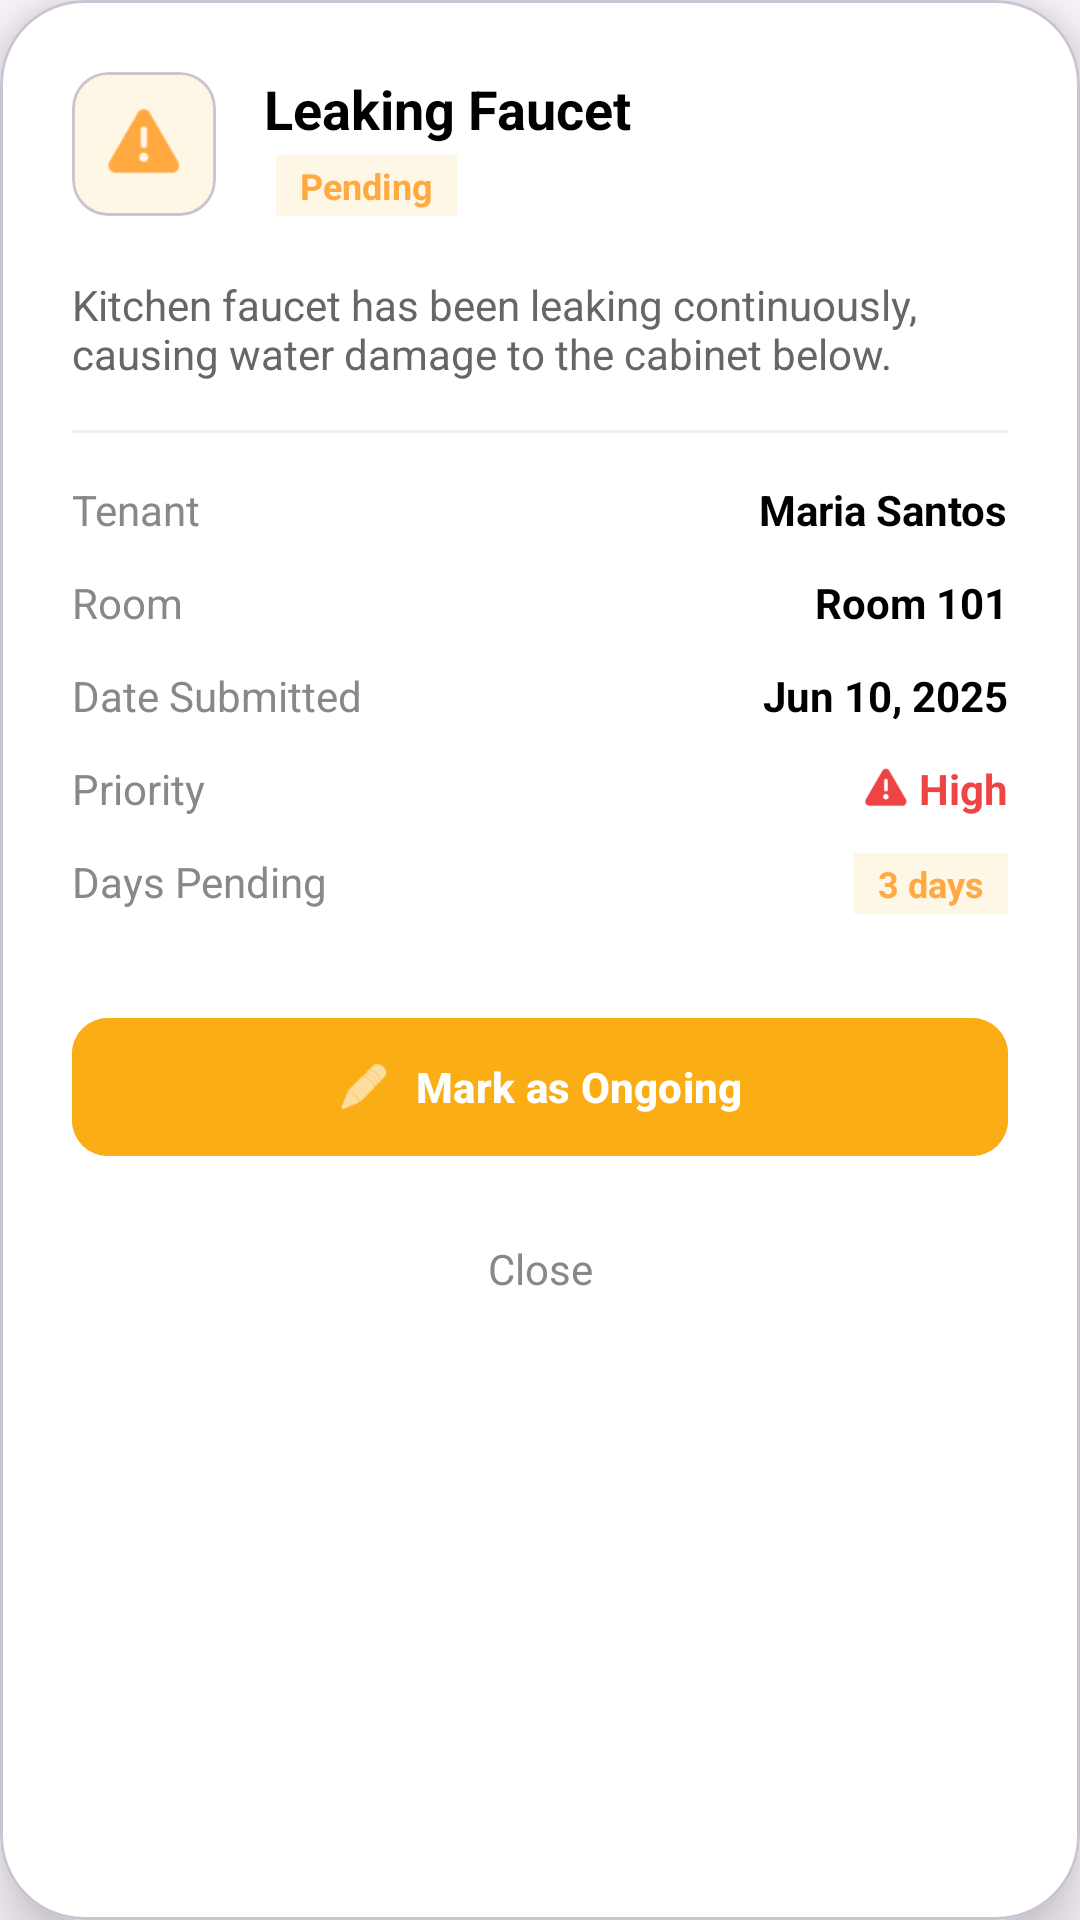

Icon bounding boxes for this 1080 × 1920 phone screenshot, format (x1, y1, x2, y2):
alert: (108, 108, 180, 174), (865, 768, 907, 806)
